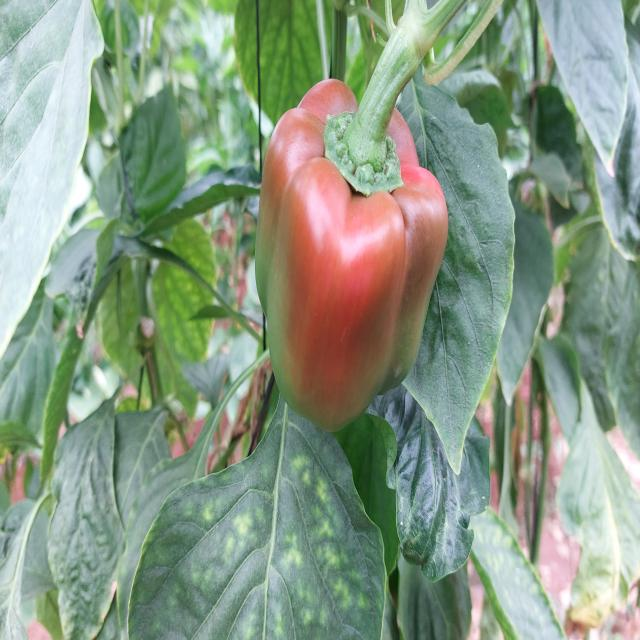Red-Ready-to-Harvest: (259, 79, 443, 440)
